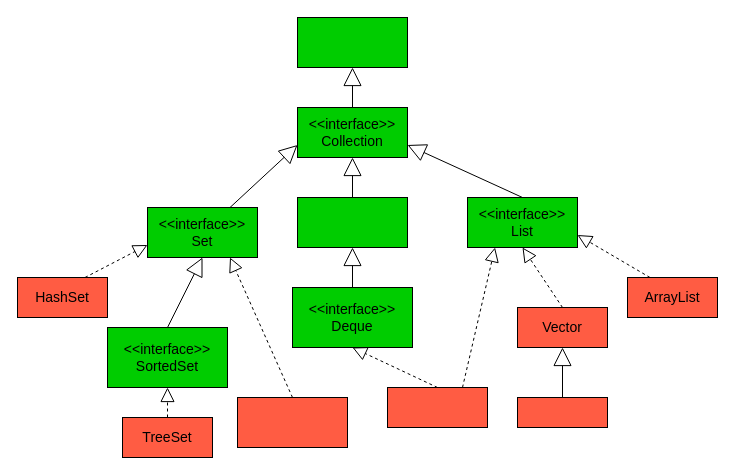
Some shapes in this 735 by 475 pixel diagram are drawn without their labels. Each missing label, with the centre of its shape:
"<<interface>> Iterable" belongs at (352,42).
"<<interface>> Queue" belongs at (352,222).
"LinkedHashSet" belongs at (292,422).
"LinkedList" belongs at (437,407).
"Stack" belongs at (562,412).
